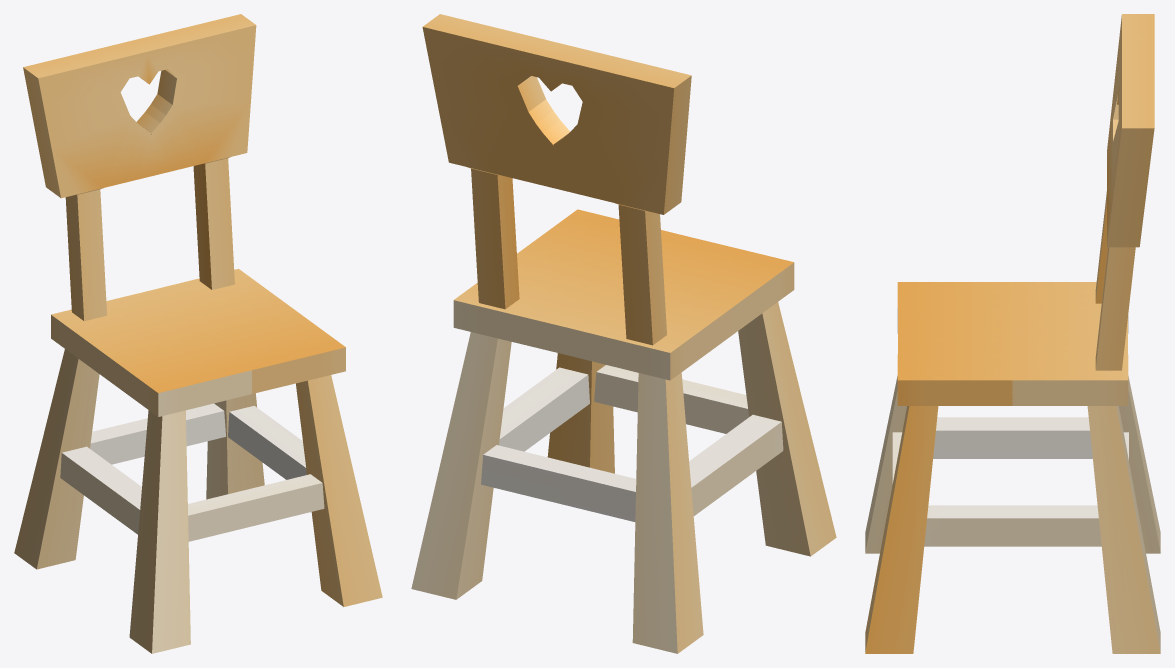
Rendered from Sillacorazon.fbx.
3 views of the same model, side by side, from view 1: azimuth 30°, elevation 25°; view 2: azimuth 150°, elevation 25°; view 3: azimuth 270°, elevation 25° (orthographic). The views are drawn at different scales.
Parts seen in each view (by area): view 1: Sillacorazon; view 2: Sillacorazon; view 3: Sillacorazon.
Boxes of the visible parts, x1,y1,x2,y2 form: Sillacorazon: (14, 14, 382, 653); Sillacorazon: (411, 14, 836, 653); Sillacorazon: (865, 14, 1160, 653).
Size of the model in its own units: 1.92 by 3.87 by 1.99.
Materials: 1 (1 with a texture image).
